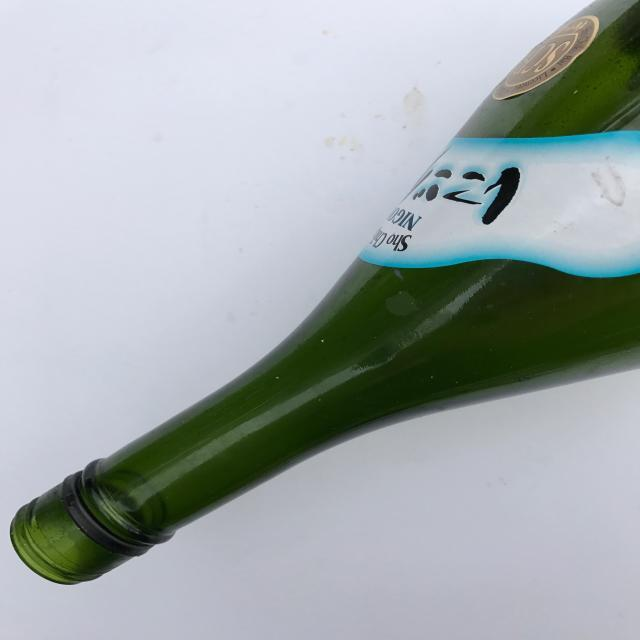glass: (6, 2, 640, 585)
